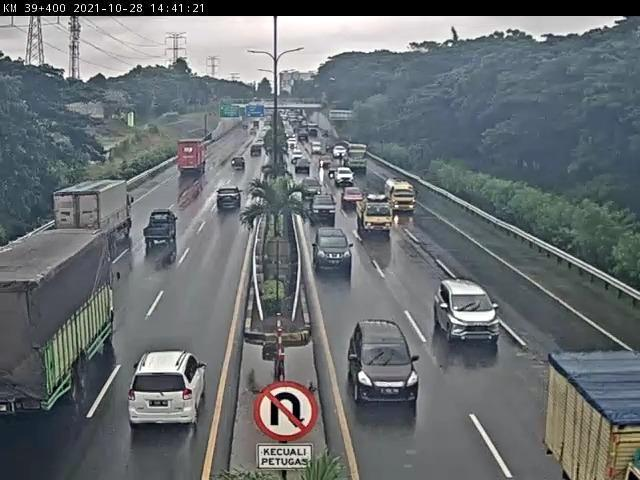car: (127, 351, 208, 428), (348, 320, 420, 406), (435, 279, 504, 344), (312, 229, 354, 274), (144, 209, 178, 249), (310, 196, 338, 223), (216, 187, 243, 212)
truck: (1, 228, 121, 410), (52, 181, 135, 250), (356, 196, 394, 239), (382, 177, 417, 213)
